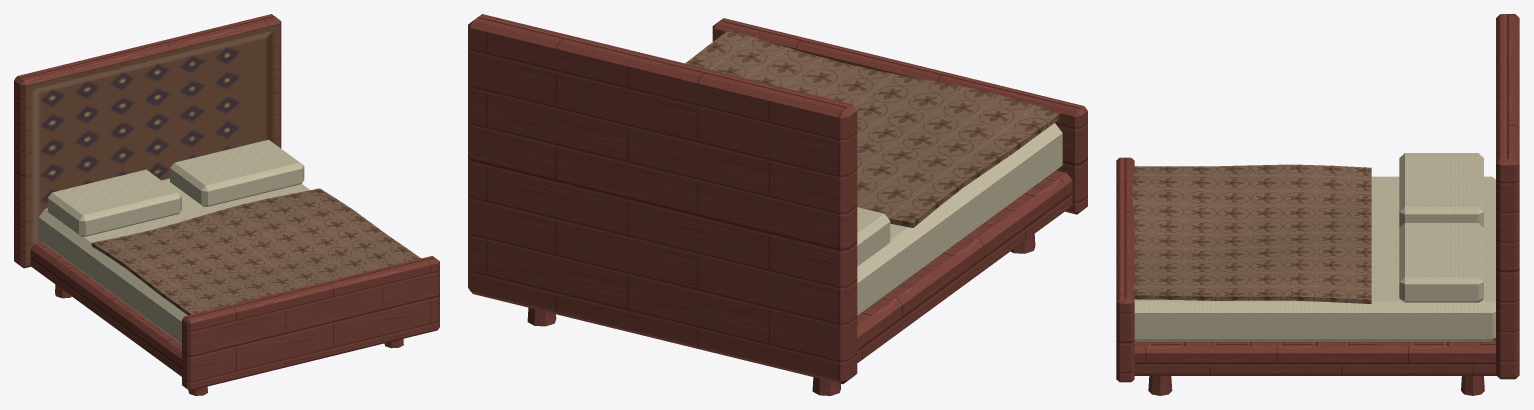
Rendered from MD_71_DoubleBed.fbx.
The picture shows the model from 3 angles, left to right: view 1: azimuth 30°, elevation 25°; view 2: azimuth 150°, elevation 25°; view 3: azimuth 270°, elevation 25°; orthographic projection. The views are drawn at different scales.
Parts seen in each view (by area): view 1: MD_71_DoubleBed_headboard, MD_71_DoubleBed_stitched_quilt, MD_71_DoubleBed_footboard, MD_71_DoubleBed_separate_mattress, MD_71_DoubleBed_plump_pillow, MD_71_DoubleBed_plump_pillow.001, MD_71_DoubleBed_bedframe; view 2: MD_71_DoubleBed_headboard, MD_71_DoubleBed_stitched_quilt, MD_71_DoubleBed_separate_mattress, MD_71_DoubleBed_bedframe, MD_71_DoubleBed_footboard, MD_71_DoubleBed_plump_pillow; view 3: MD_71_DoubleBed_stitched_quilt, MD_71_DoubleBed_separate_mattress, MD_71_DoubleBed_bedframe, MD_71_DoubleBed_headboard, MD_71_DoubleBed_plump_pillow.001, MD_71_DoubleBed_plump_pillow, MD_71_DoubleBed_footboard, MD_71_DoubleBed_bed_foot.003, MD_71_DoubleBed_bed_foot.002.
Part boxes in pixels (left/top/right/bottom): MD_71_DoubleBed_headboard: left=14, top=14, right=281, bottom=268; MD_71_DoubleBed_stitched_quilt: left=91, top=188, right=420, bottom=315; MD_71_DoubleBed_footboard: left=182, top=256, right=439, bottom=390; MD_71_DoubleBed_separate_mattress: left=38, top=178, right=310, bottom=343; MD_71_DoubleBed_plump_pillow: left=47, top=169, right=181, bottom=236; MD_71_DoubleBed_plump_pillow.001: left=170, top=139, right=304, bottom=206; MD_71_DoubleBed_bedframe: left=30, top=242, right=181, bottom=376; MD_71_DoubleBed_headboard: left=468, top=14, right=857, bottom=384; MD_71_DoubleBed_stitched_quilt: left=685, top=29, right=1060, bottom=227; MD_71_DoubleBed_separate_mattress: left=857, top=123, right=1062, bottom=315; MD_71_DoubleBed_bedframe: left=857, top=170, right=1072, bottom=362; MD_71_DoubleBed_footboard: left=712, top=18, right=1087, bottom=214; MD_71_DoubleBed_plump_pillow: left=857, top=207, right=890, bottom=265; MD_71_DoubleBed_stitched_quilt: left=1132, top=164, right=1371, bottom=303; MD_71_DoubleBed_separate_mattress: left=1134, top=176, right=1495, bottom=341; MD_71_DoubleBed_bedframe: left=1134, top=340, right=1496, bottom=375; MD_71_DoubleBed_headboard: left=1496, top=14, right=1519, bottom=379; MD_71_DoubleBed_plump_pillow.001: left=1399, top=223, right=1483, bottom=302; MD_71_DoubleBed_plump_pillow: left=1399, top=153, right=1483, bottom=227; MD_71_DoubleBed_footboard: left=1116, top=157, right=1134, bottom=382; MD_71_DoubleBed_bed_foot.003: left=1461, top=376, right=1484, bottom=395; MD_71_DoubleBed_bed_foot.002: left=1148, top=376, right=1172, bottom=395.
Bounding box in the file's own units: 1.92 × 1.49 × 2.2.
4 materials, 4 textured.
